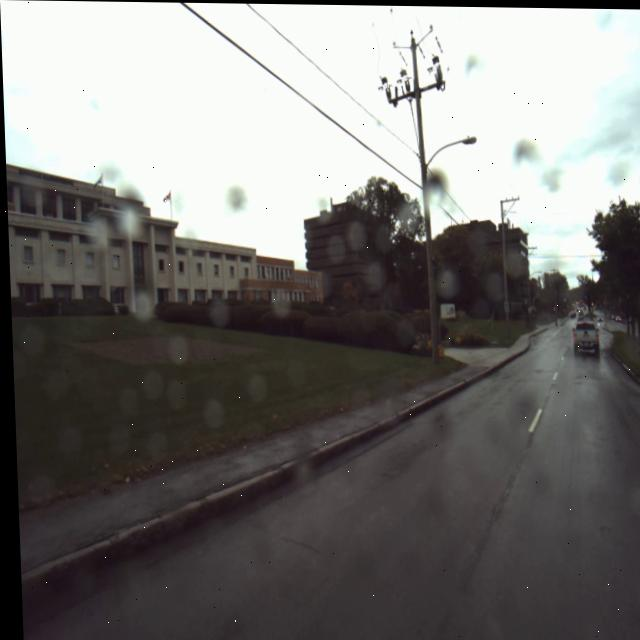car: (569, 320, 597, 356)
